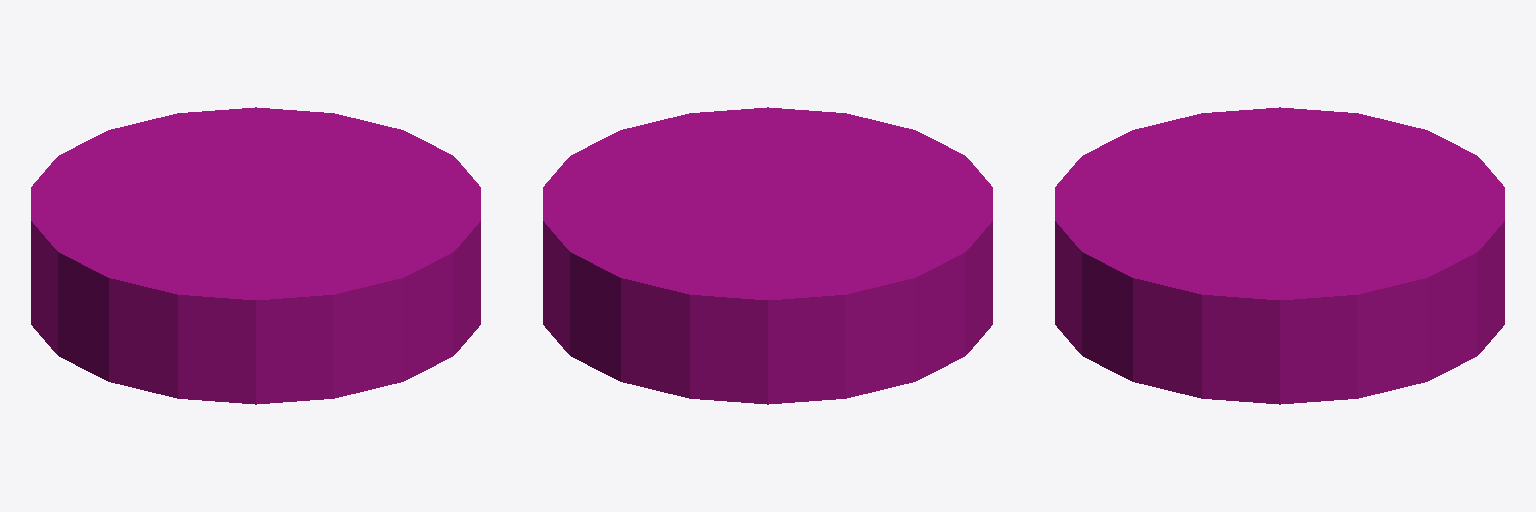
The model's file is hao.obj.
3 renders of one model, left to right at view 1: azimuth 30°, elevation 25°; view 2: azimuth 150°, elevation 25°; view 3: azimuth 270°, elevation 25°, orthographic.
Parts seen in each view (by area): view 1: Cylinder001; view 2: Cylinder001; view 3: Cylinder001.
Part boxes in pixels (left/top/right/bottom): Cylinder001: left=31, top=107, right=480, bottom=404; Cylinder001: left=543, top=107, right=992, bottom=404; Cylinder001: left=1055, top=107, right=1504, bottom=404.
Bounding box in the file's own units: 199 × 50 × 196.